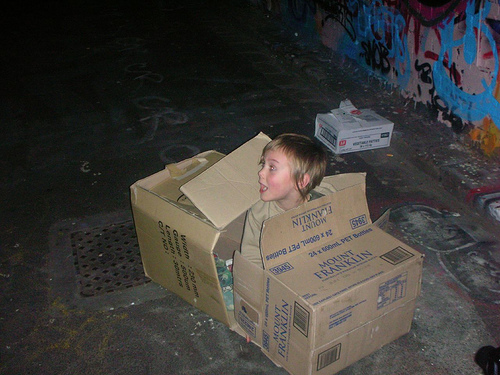without_mask: (256, 141, 314, 205)
